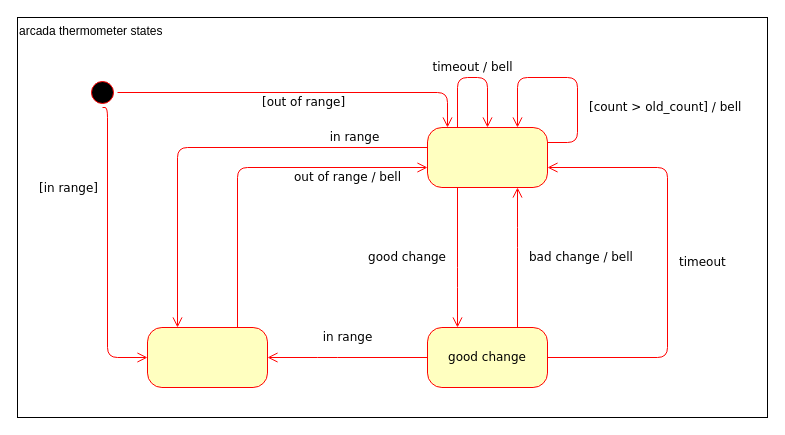
Some shapes in this 785 by 435 pixel diagram are drawn without their labels. Here are the shapes that lost their labels. From the top down, the box of each, then its label:
(426, 126, 548, 188): out of range
(146, 326, 268, 388): in range [count == 0]
